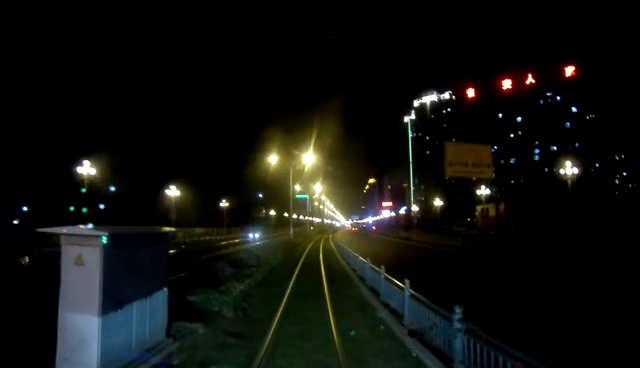car: (249, 230, 266, 241)
